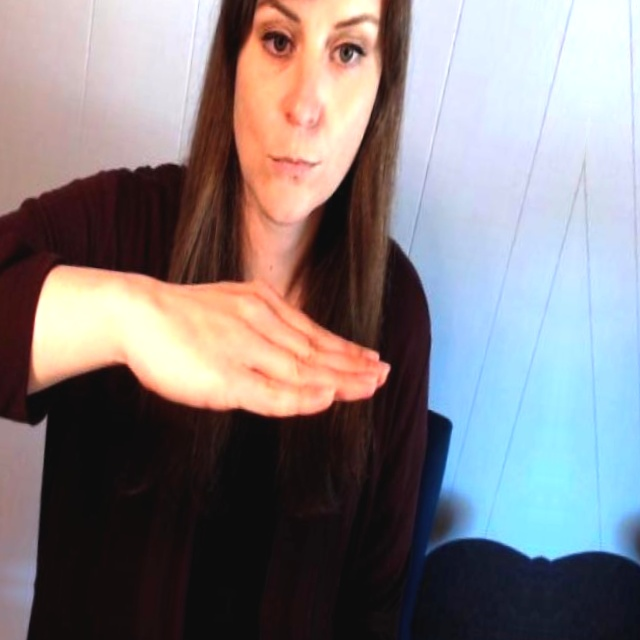Paper: (117, 248, 406, 451)
